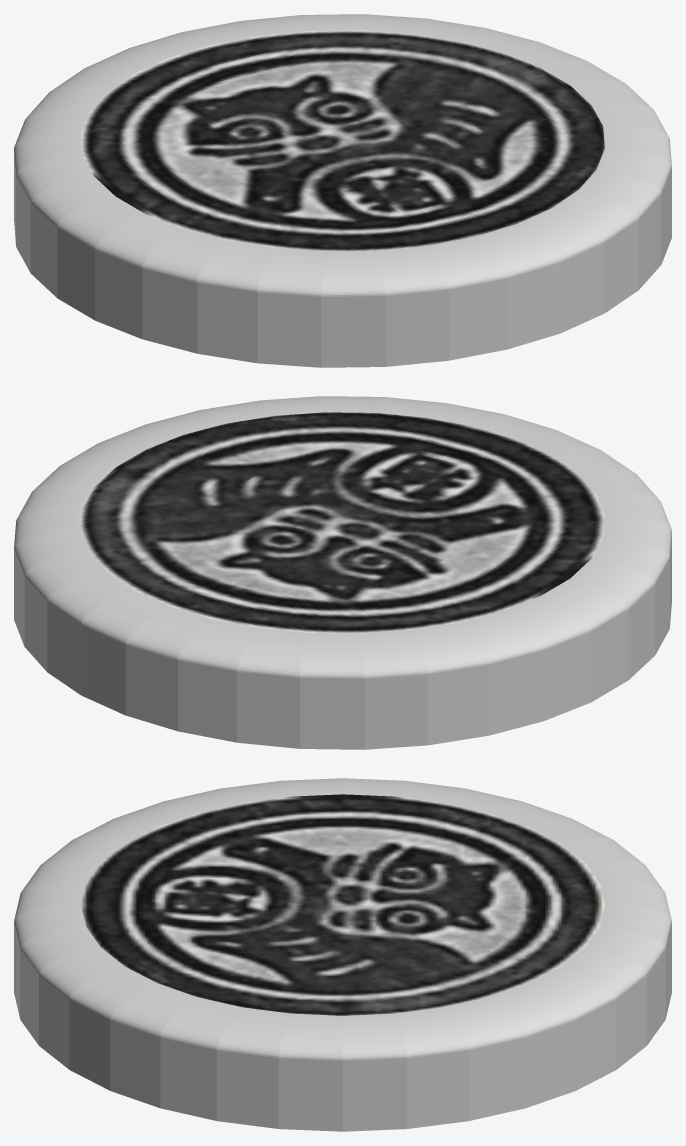
Rendered from Black Cat.fbx.
The picture shows the model from 3 angles, top to bottom: view 1: azimuth 30°, elevation 25°; view 2: azimuth 150°, elevation 25°; view 3: azimuth 270°, elevation 25°; orthographic projection.
Parts seen in each view (by area): view 1: Cylinder.001; view 2: Cylinder.001; view 3: Cylinder.001.
Boxes of the visible parts, x1,y1,x2,y2 form: Cylinder.001: (14, 14, 671, 367); Cylinder.001: (14, 396, 671, 749); Cylinder.001: (14, 778, 671, 1131).
Size of the model in its own units: 151 by 22.19 by 151.
2 materials, 1 textured.
